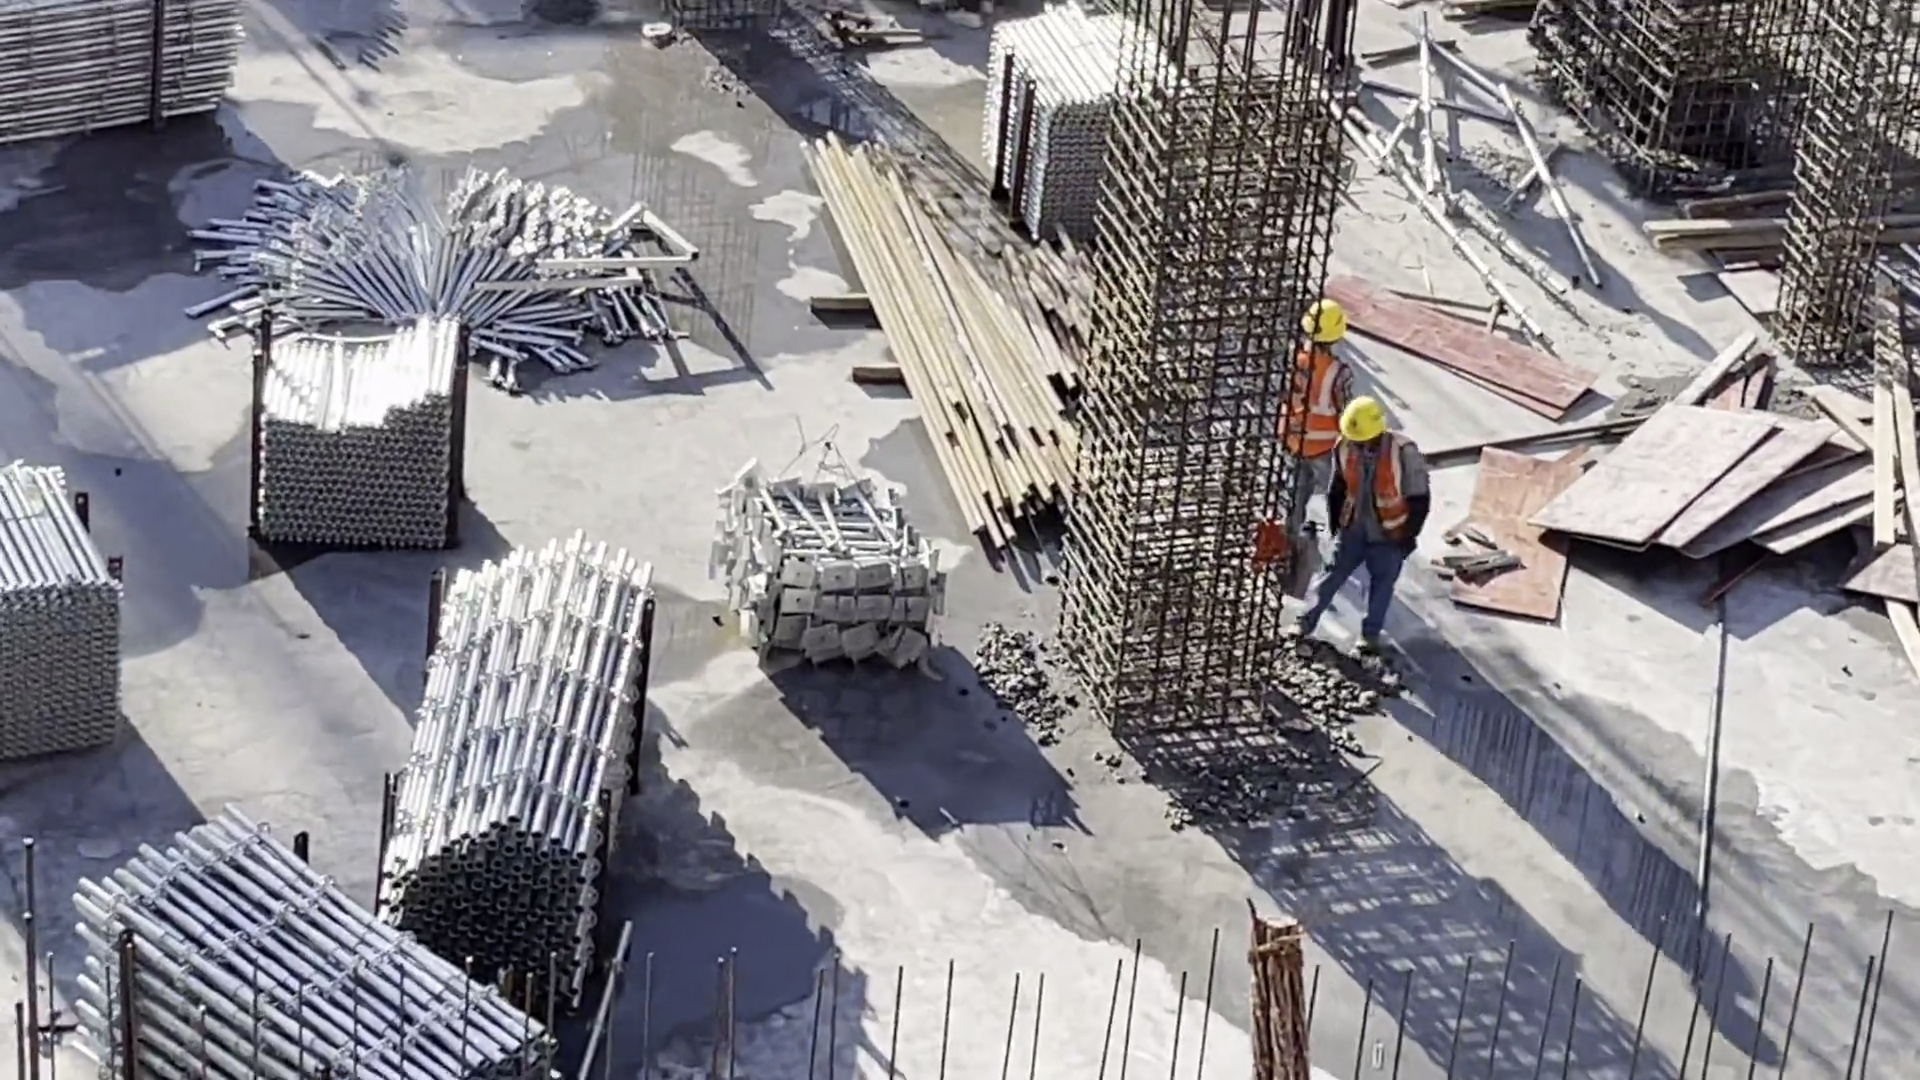board: (1334, 274, 1849, 649)
helmet: (1337, 396, 1396, 453), (1301, 300, 1342, 349)
person: (1282, 298, 1360, 575), (1337, 393, 1407, 676)
rebar: (797, 117, 1158, 538)
scaffold: (46, 793, 559, 1080), (405, 541, 653, 1005), (715, 445, 944, 689), (238, 318, 459, 557), (1, 435, 167, 738), (1, 2, 246, 124)
vest: (1271, 345, 1349, 463), (1331, 452, 1419, 552)
